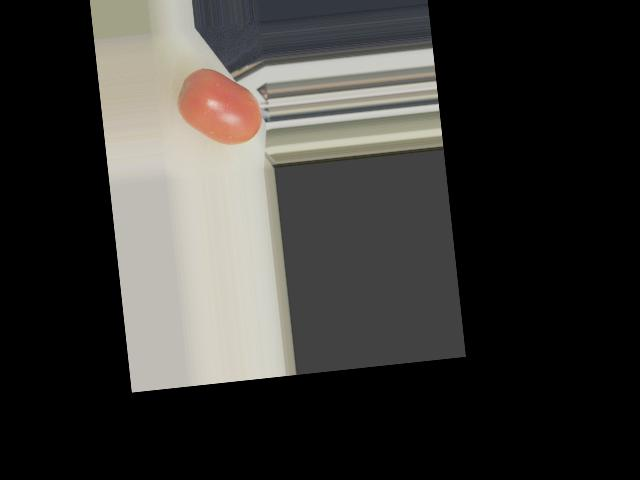tomato: (174, 63, 264, 150)
